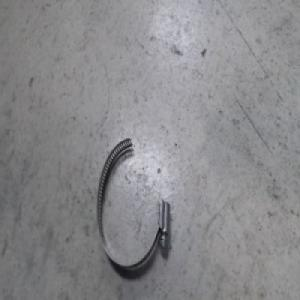AdjustableClamp: (97, 138, 170, 266)
